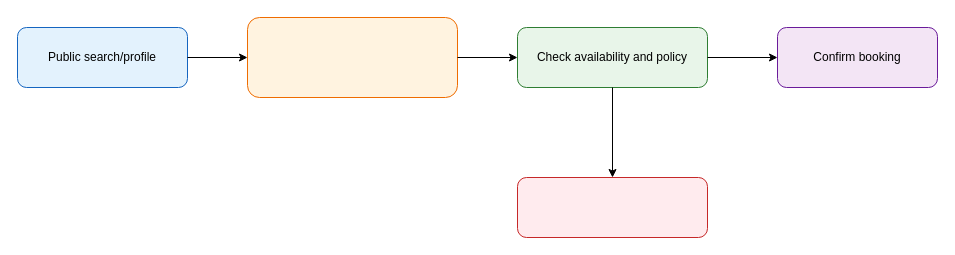
Image size: 955x255. Some labels were removed from this diagram. Each missing label, with the centre of its shape:
409 slot conflict; refresh choices: [612,207]
Select service, branch, staff preference: [352,57]
